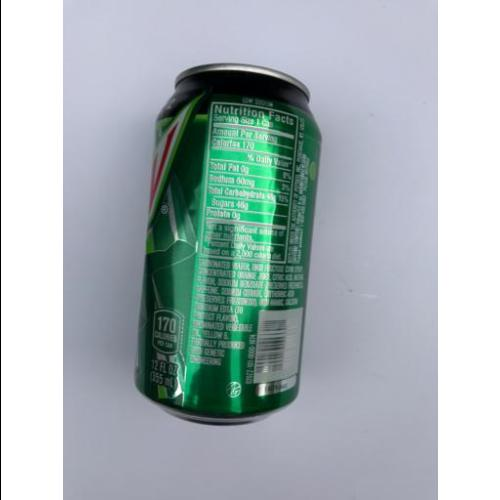metal: (137, 62, 319, 424)
